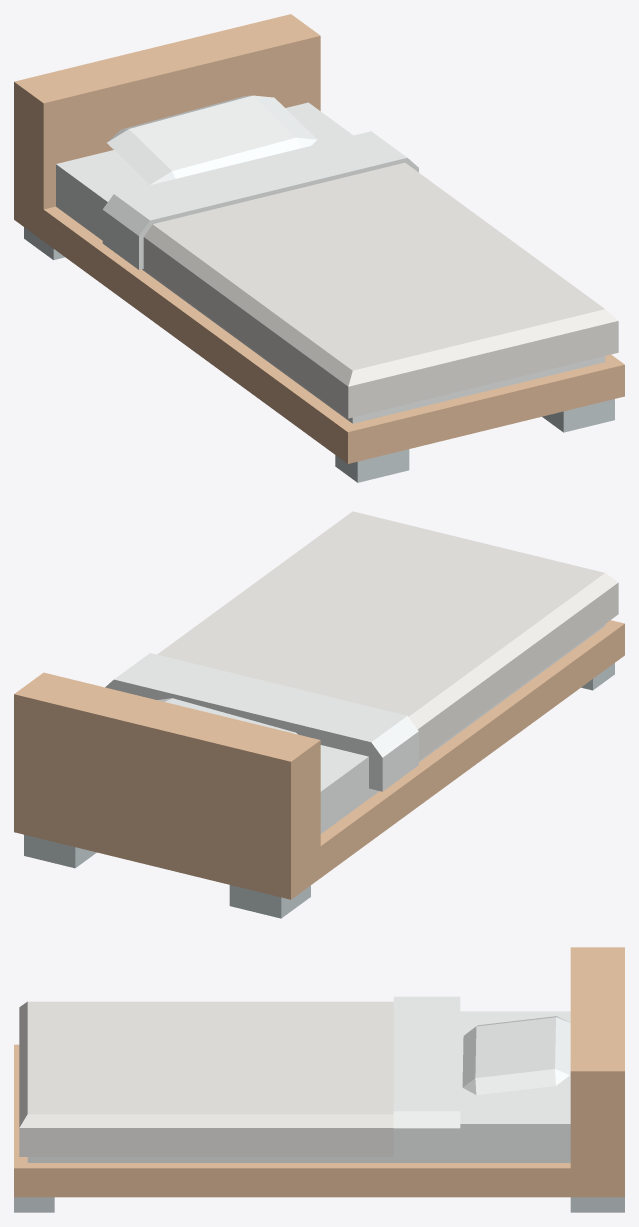
Rendered from bed-single.glb.
3 renders of one model, top to bottom at view 1: azimuth 30°, elevation 25°; view 2: azimuth 150°, elevation 25°; view 3: azimuth 270°, elevation 25°, orthographic. The views are drawn at different scales.
Visible parts, largest first — view 1: bedSingle(Clone), cover; view 2: bedSingle(Clone), cover; view 3: bedSingle(Clone), cover.
Part boxes in pixels (x1,y1,x2,y2): bedSingle(Clone): (14, 14, 624, 482); cover: (143, 162, 618, 418); bedSingle(Clone): (14, 620, 624, 918); cover: (157, 511, 618, 759); bedSingle(Clone): (14, 947, 624, 1212); cover: (19, 1001, 393, 1156).
Bounding box in the file's own units: 0.9199 × 0.4999 × 1.9.
